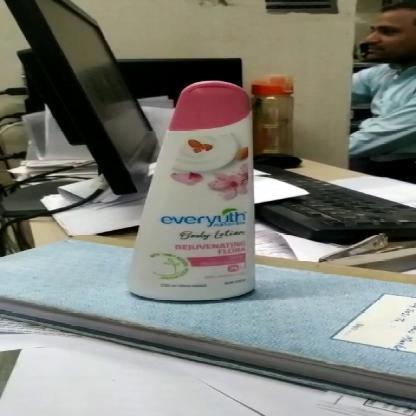Everyuth Naturals Body Lotion Rejuvenating Flora 200ml: (120, 78, 262, 304)
